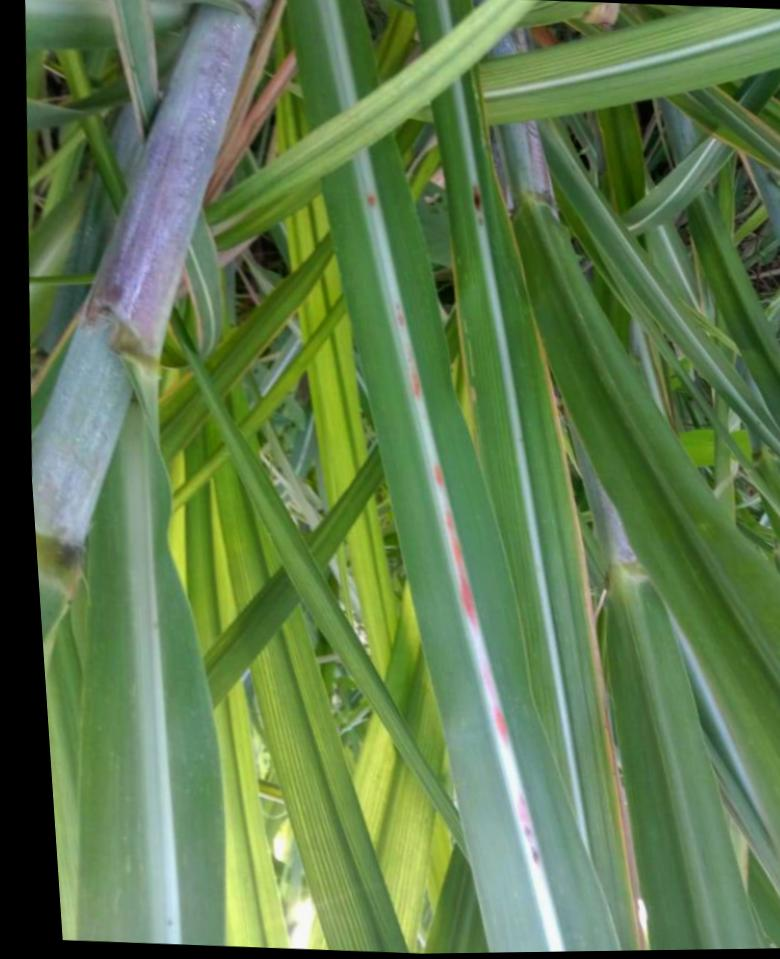RedRot: (445, 506, 477, 630), (482, 667, 508, 744), (518, 796, 540, 865), (472, 181, 484, 225), (433, 463, 445, 489), (411, 370, 421, 396), (395, 302, 405, 325), (366, 194, 376, 204)
